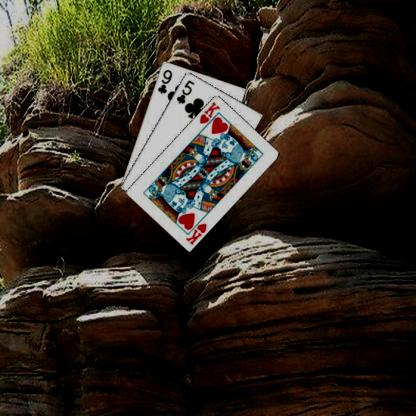5C: (173, 77, 196, 105)
9C: (155, 67, 173, 95)
KH: (197, 99, 221, 124), (183, 221, 208, 245)
